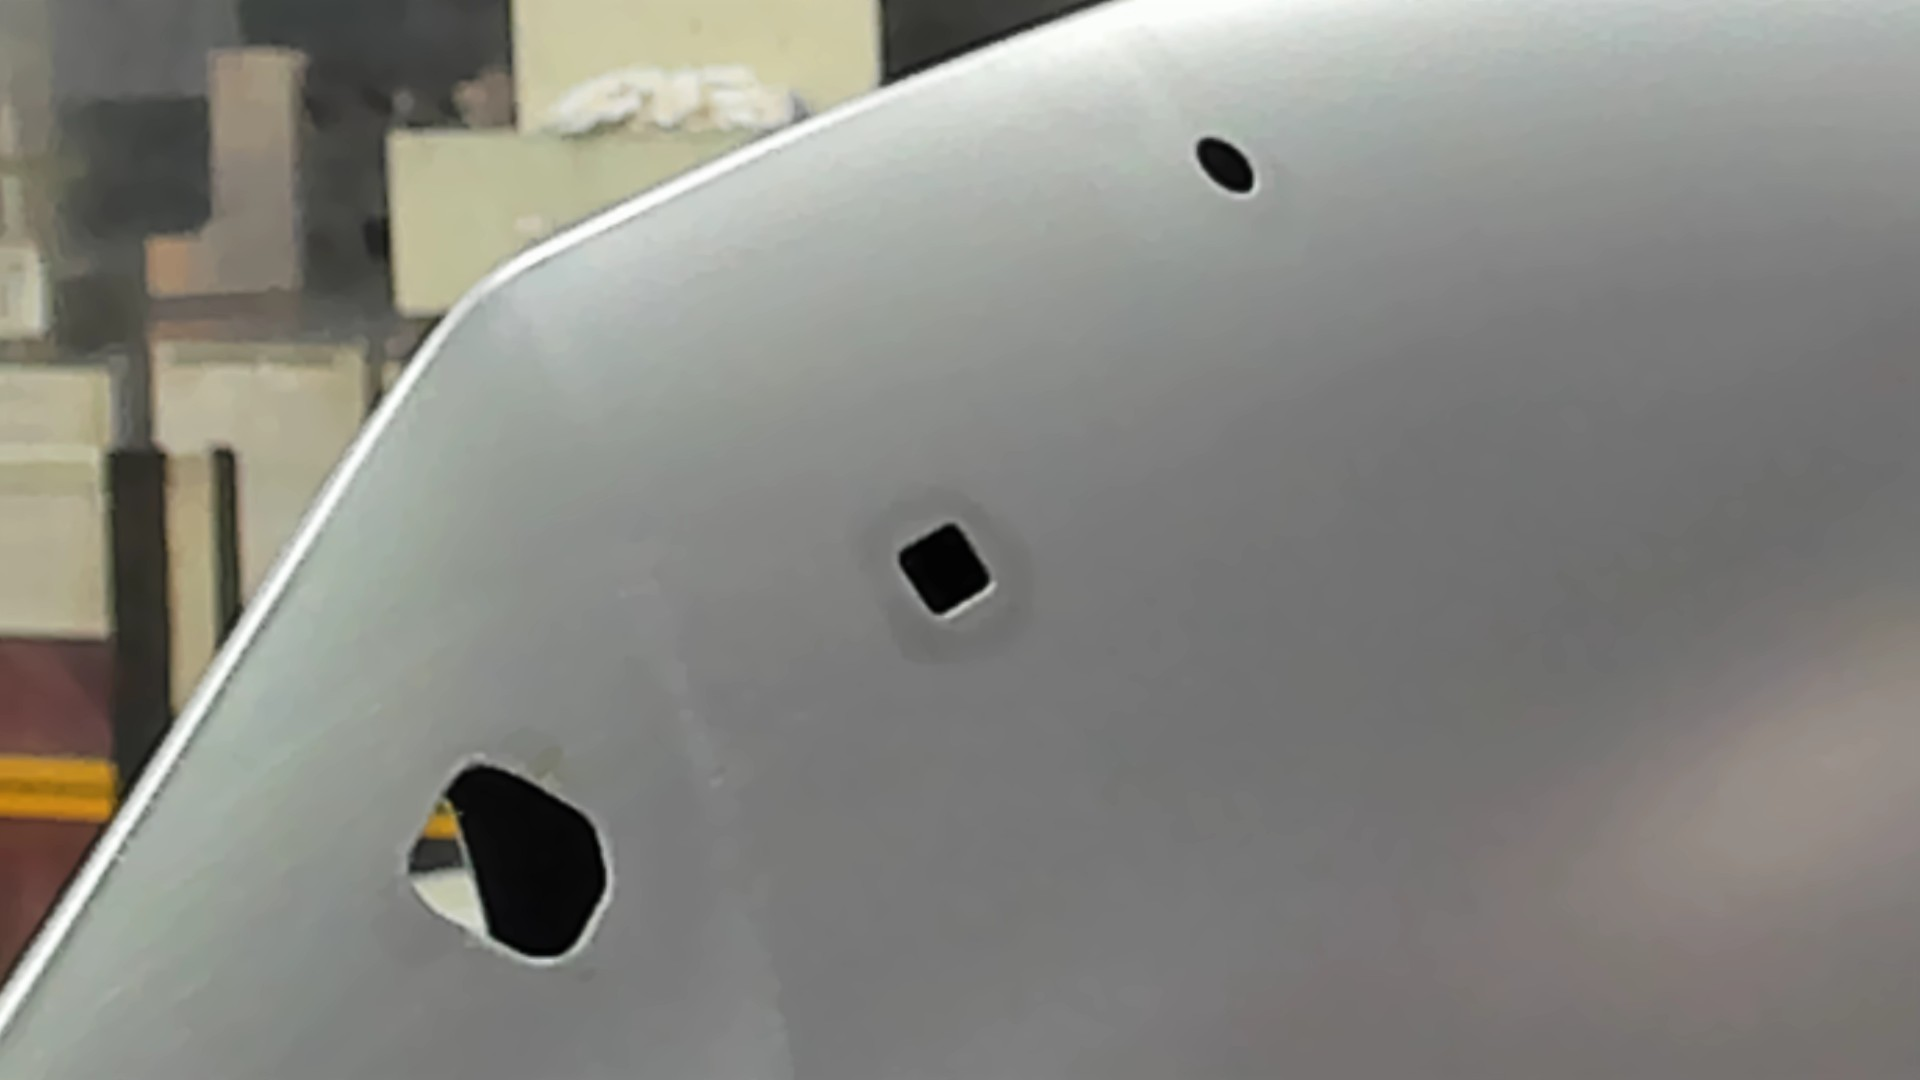capo: (1002, 203, 1920, 1080)
chico: (1192, 132, 1259, 200)
grande: (397, 754, 620, 969)
mediano: (891, 513, 1001, 628)
